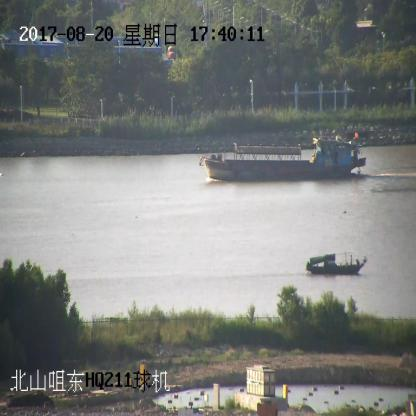Fishing Boat: (199, 133, 366, 182), (306, 253, 366, 273)
